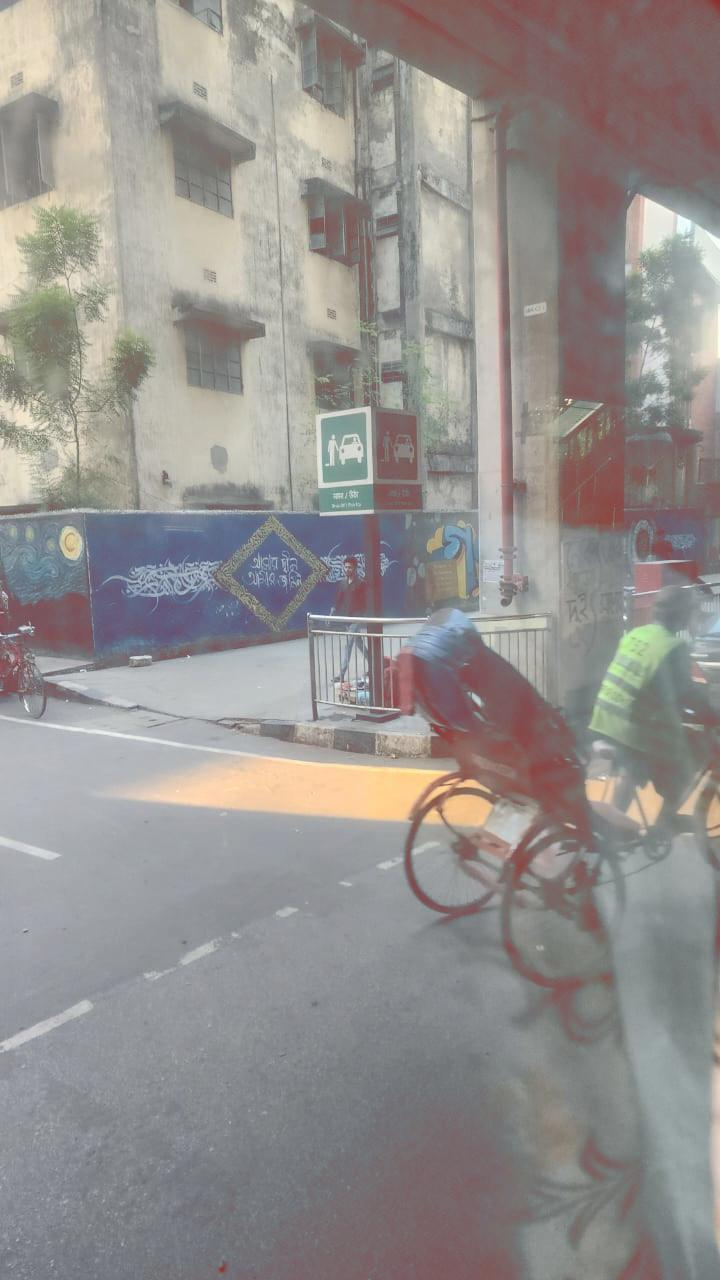Metro Dorp Up Pick up: (316, 406, 423, 513)
